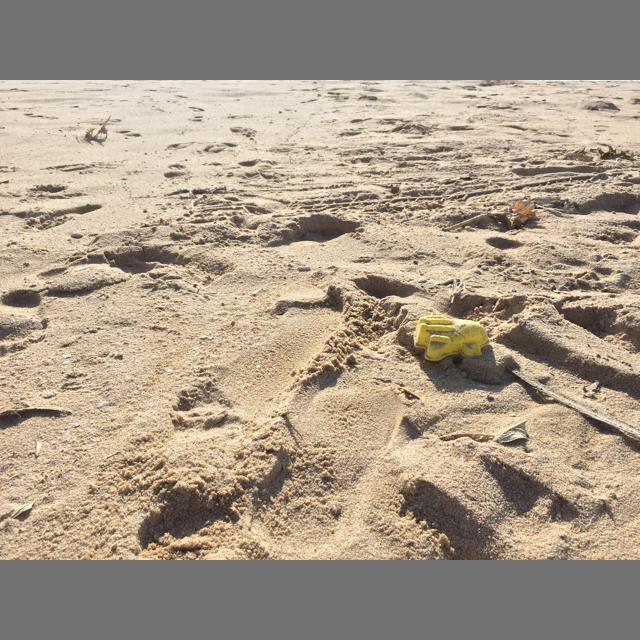litter: (413, 315, 490, 361), (298, 267, 311, 269)
